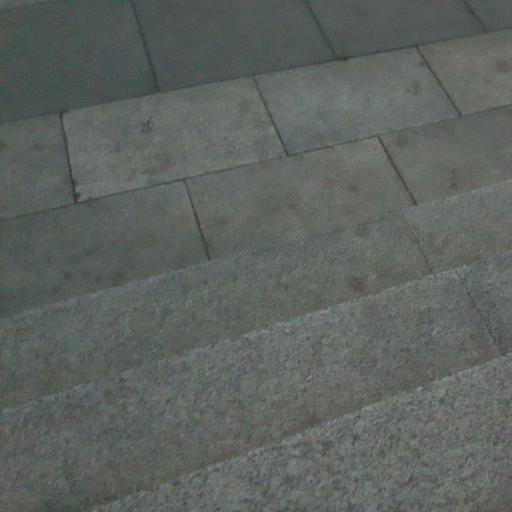stairs: (0, 29, 511, 511), (95, 355, 511, 511)
